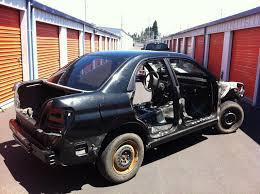doorouter-dent: (125, 53, 171, 127)
rear-bumper-dent: (4, 121, 65, 162)
